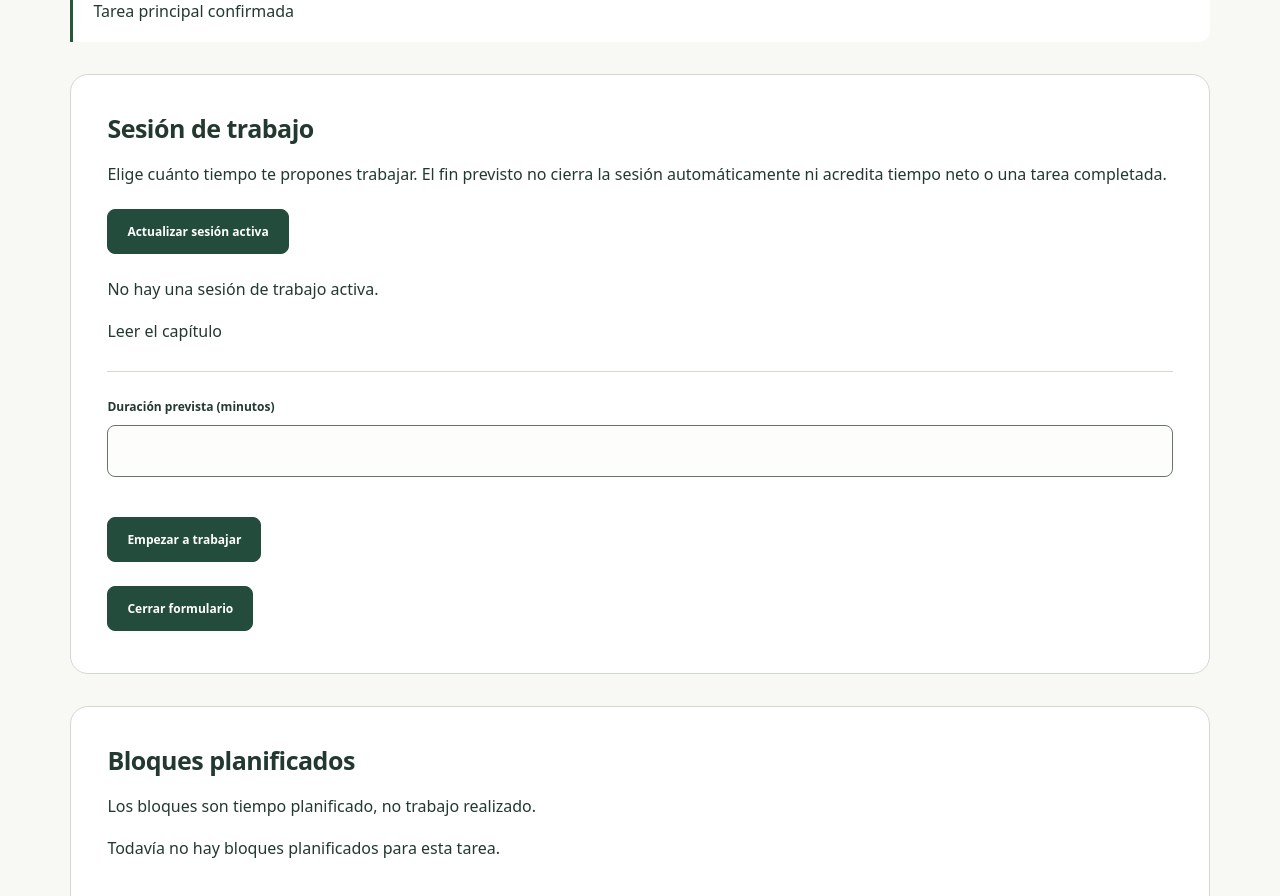
Test: @s28 integrates explicit work start in the existing task reader
(page scrolled)
In the number field labelled "Duración prevista (minutos)": (640, 451) [107,425,1173,477], type "25"
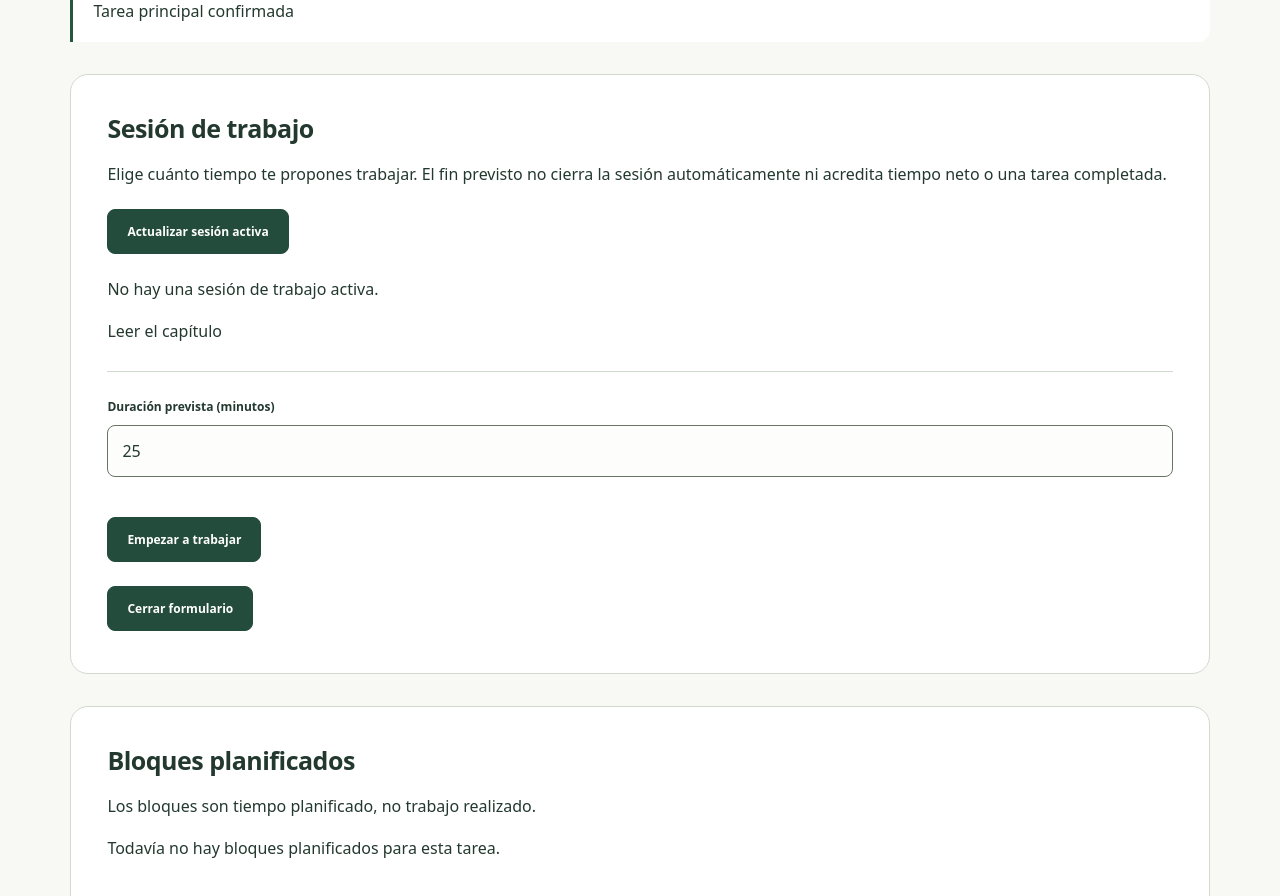
Click the button "Empezar a trabajar": (184, 539) [107,517,261,562]
(page scrolled)
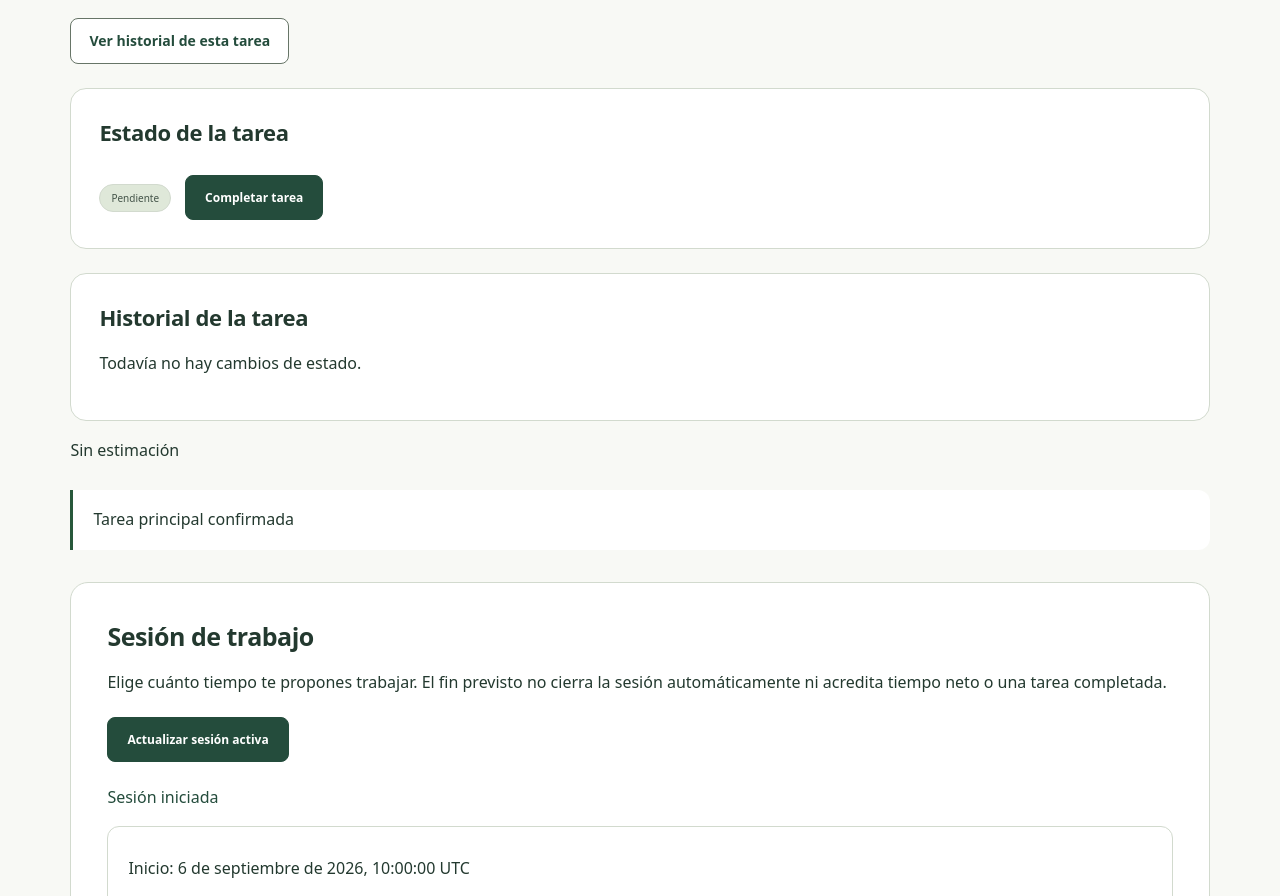
Expected: the text "Sin estimación" is shown, [70,439,179,461]
Now the text "Sesión iniciada" is shown, box [107,786,218,808]
